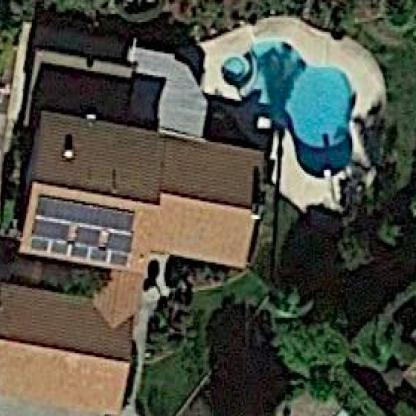solar_panel: (24, 184, 144, 267)
swimming_pool: (217, 25, 360, 187)
